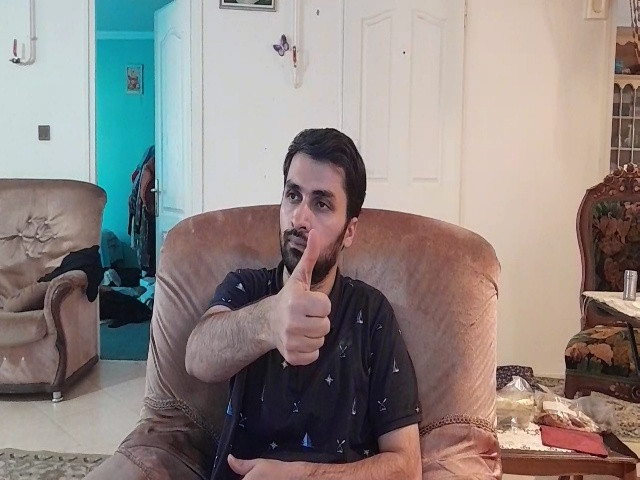ThumbsUp: (265, 228, 334, 370)
